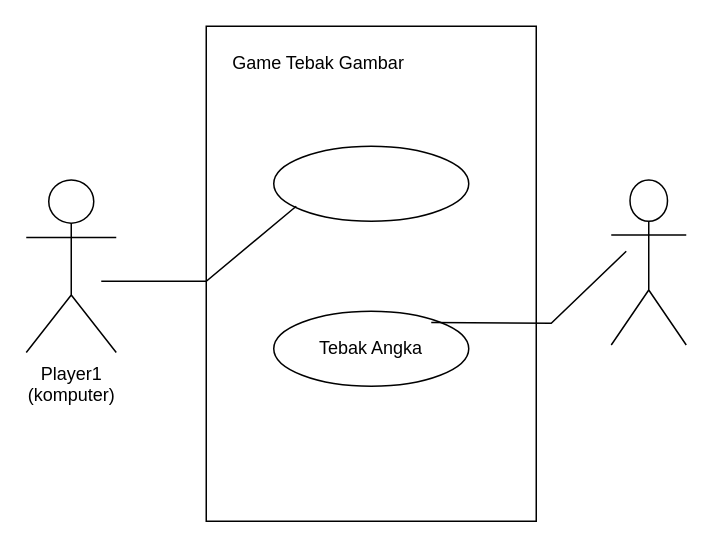
This 713x548 diagram has some shape labels left out. The shapes that lost their labels are listed below. From the top down, each one's centre as x and y in pixels, then its label:
At point 370,183: "Random Angka".
At point 648,261: "Player2 (user)".
